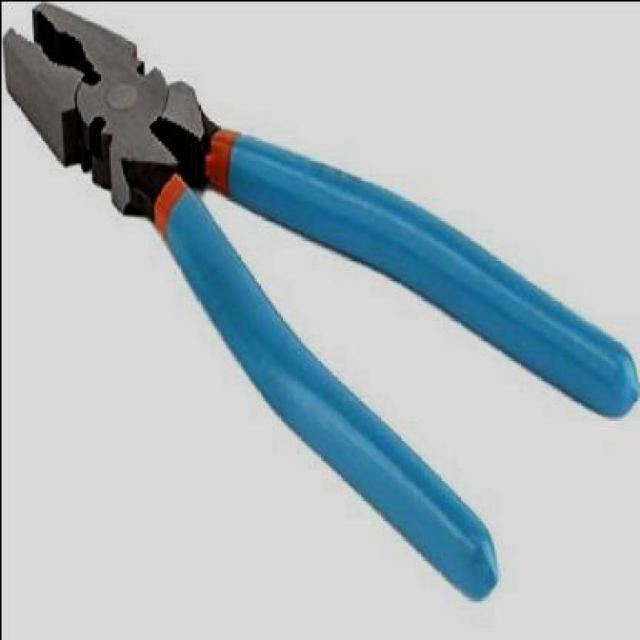pliers: (3, 1, 634, 598)
